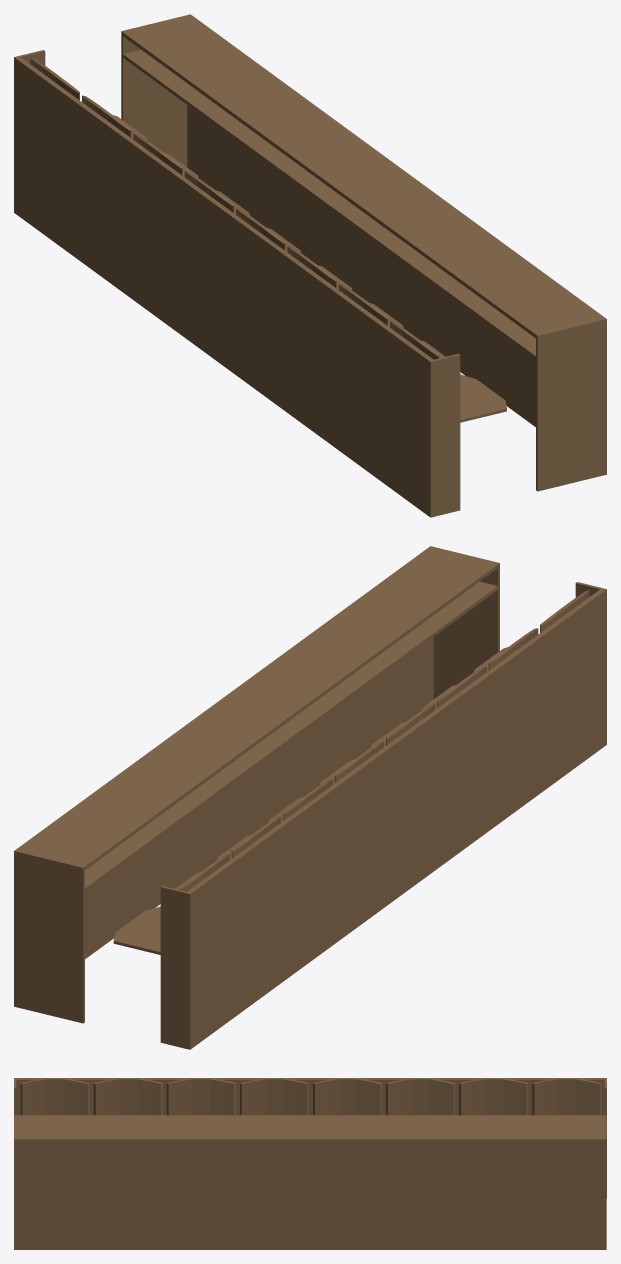
Rendered from row_bench.fbx.
The picture shows the model from 3 angles, top to bottom: view 1: azimuth 30°, elevation 25°; view 2: azimuth 150°, elevation 25°; view 3: azimuth 270°, elevation 25°; orthographic projection. The views are drawn at different scales.
Visible parts, largest first — view 1: Cube.061, Plane.048; view 2: Cube.061, Plane.055; view 3: Cube.061, Cube.063, Cube.055, Cube.057, Cube.059, Cube.056, Cube.060, Cube.062, Cube.058.
Part boxes in pixels (x1,y1,x2,y2): Cube.061: (14, 14, 606, 517); Plane.048: (460, 374, 506, 422); Cube.061: (14, 546, 606, 1049); Plane.055: (113, 906, 160, 954); Cube.061: (14, 1078, 606, 1249); Cube.063: (532, 1078, 601, 1115); Cube.055: (20, 1078, 89, 1115); Cube.057: (166, 1078, 235, 1115); Cube.059: (313, 1078, 382, 1115); Cube.056: (93, 1078, 162, 1115); Cube.060: (386, 1078, 455, 1115); Cube.062: (459, 1078, 528, 1115); Cube.058: (240, 1078, 308, 1115).
Bounding box in the file's own units: 108 × 92.71 × 440.
